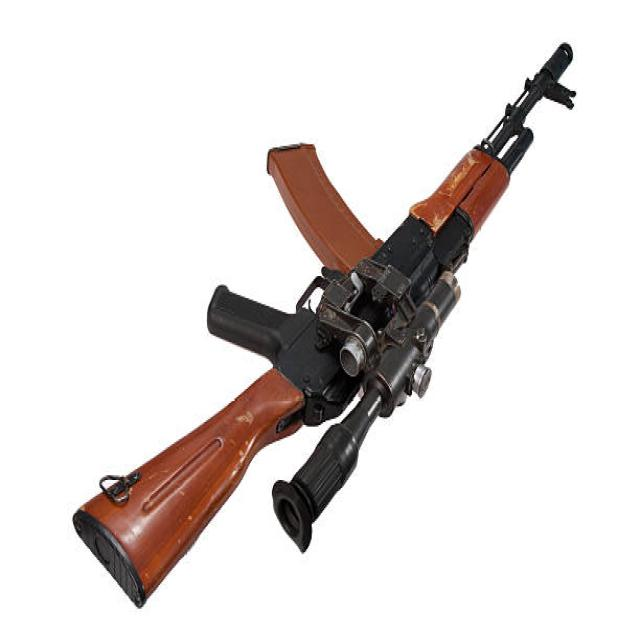rifle: (69, 25, 584, 627)
